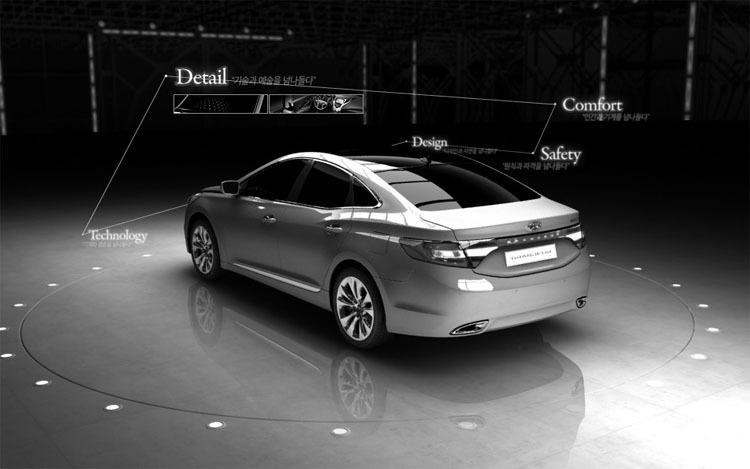car: (182, 153, 593, 357)
